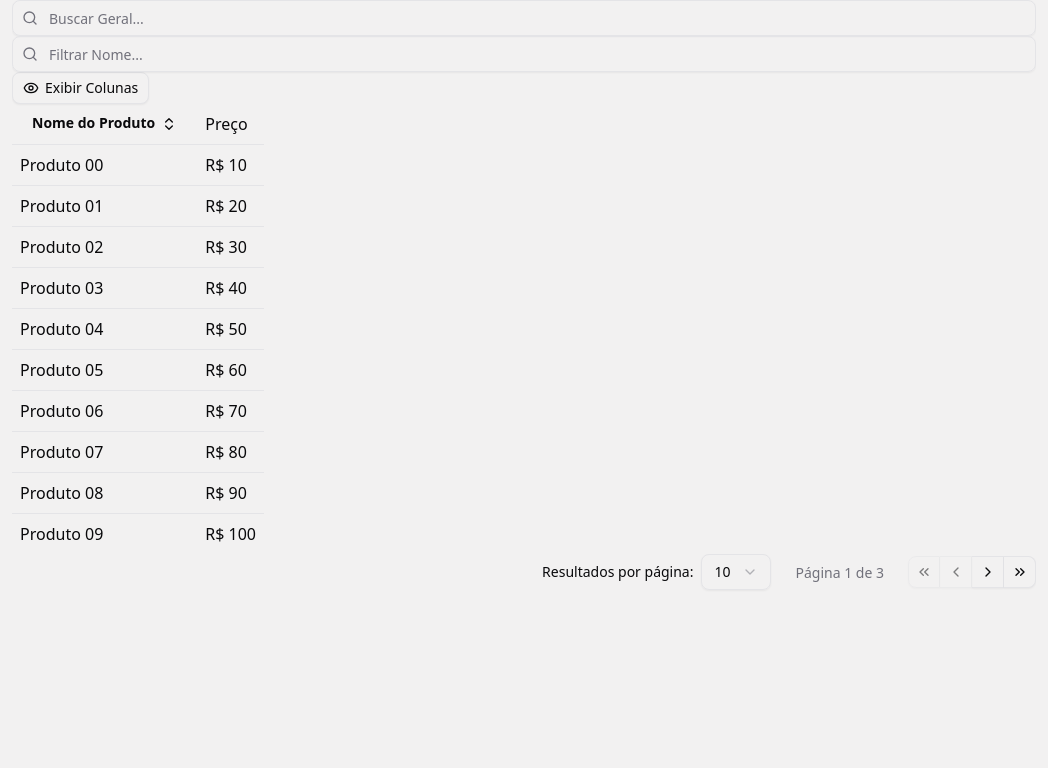
DataTable Integration & Coverage › should change page size via select
Click the dropdown at (736, 572), box [702,554,772,590]
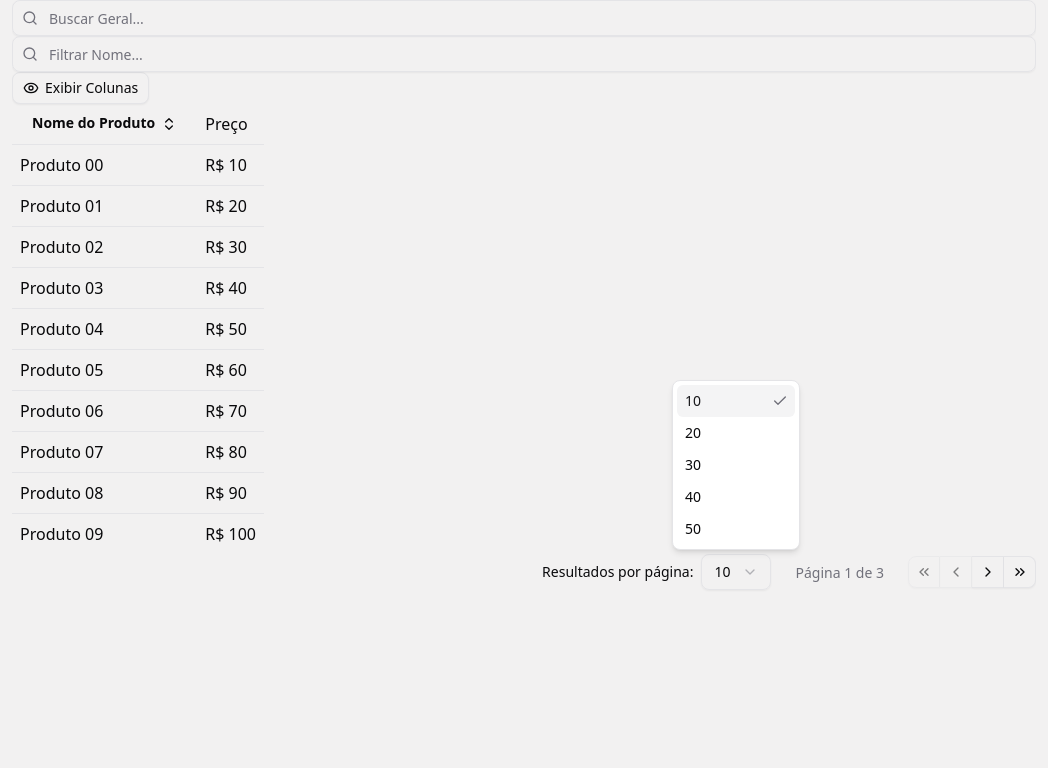
Click the option "20" at (693, 432), box [685,423,701,442]
(page scrolled)
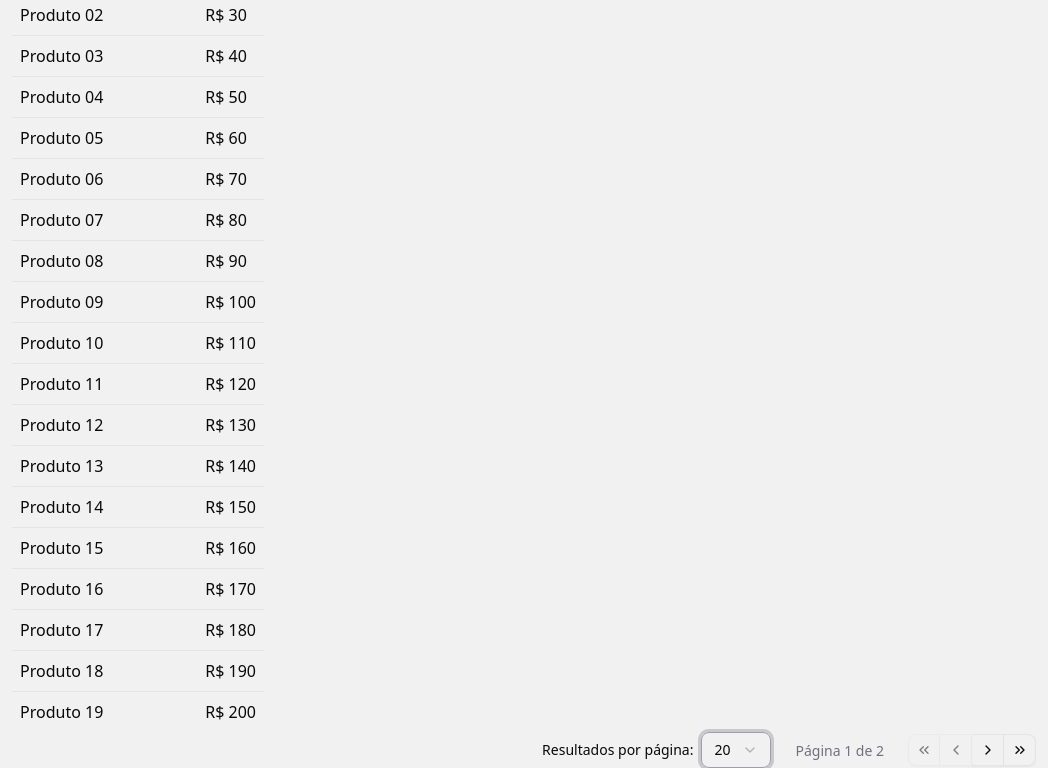
expect the text "Produto 19" is shown: met, box [12,691,197,732]
expect the text "Página 1 de 2" is shown: met, box [796,740,884,760]
